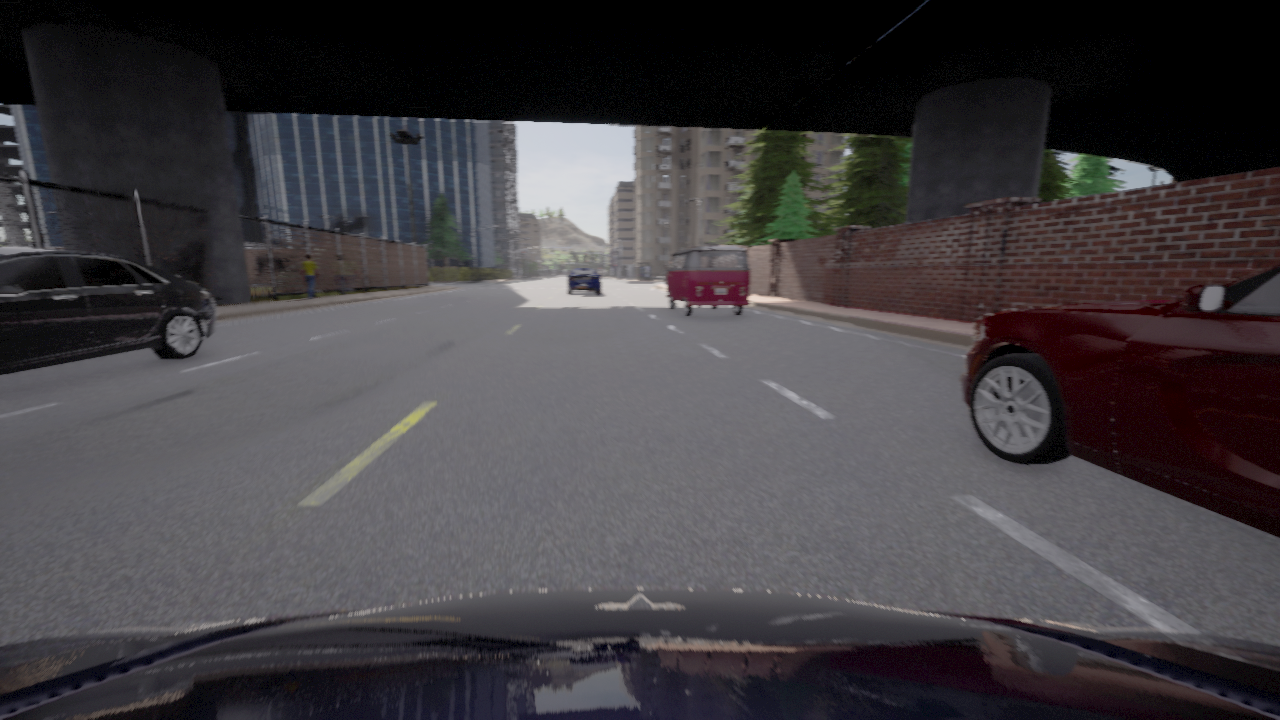cyclist: (0, 588, 1279, 719), (960, 263, 1279, 537), (664, 245, 750, 315), (567, 268, 600, 293)
pedestrian: (301, 255, 320, 299)
